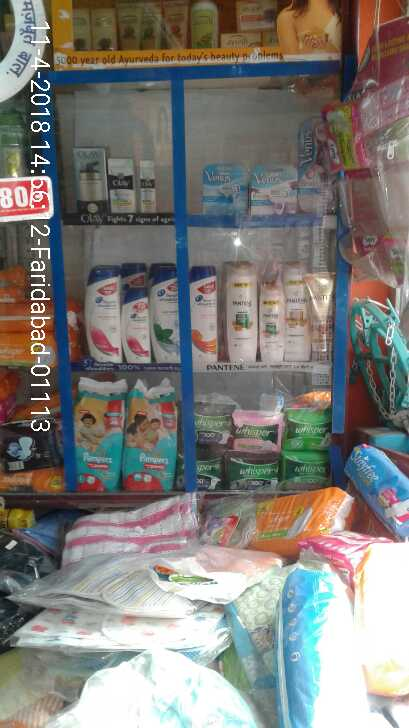venus: (299, 117, 338, 212), (250, 163, 298, 215), (202, 163, 250, 214)
